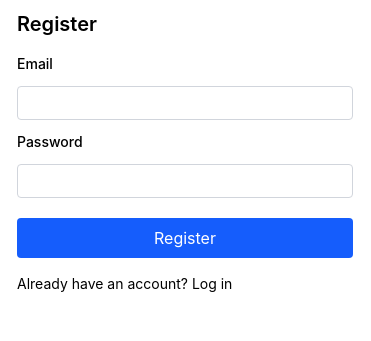
Test: Register page › shows a password-length-policy error distinctly from a duplicate-email error
Type "bob@example.com" into the field labelled "Email". click: (185, 103)
box: [17, 86, 353, 120]
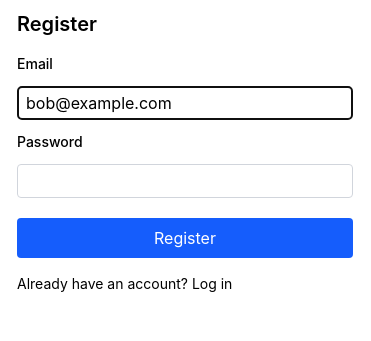
Type "short" into the password field labelled "Password". click: (185, 181)
box: [17, 164, 353, 198]
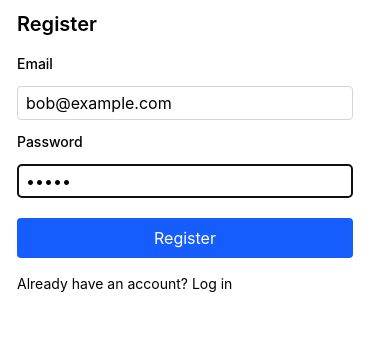
Click the button "Register". click: (185, 238)
box: [17, 218, 353, 258]
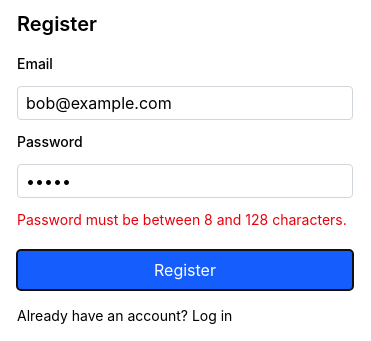
Check: the text "Password must be between 8 and 128 characters." is shown, box [17, 210, 353, 230]
